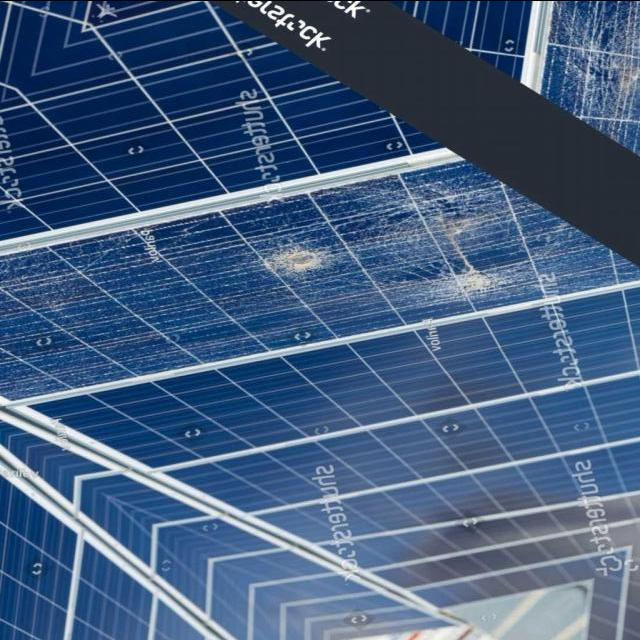cracked: (1, 158, 638, 397), (542, 1, 640, 149)
